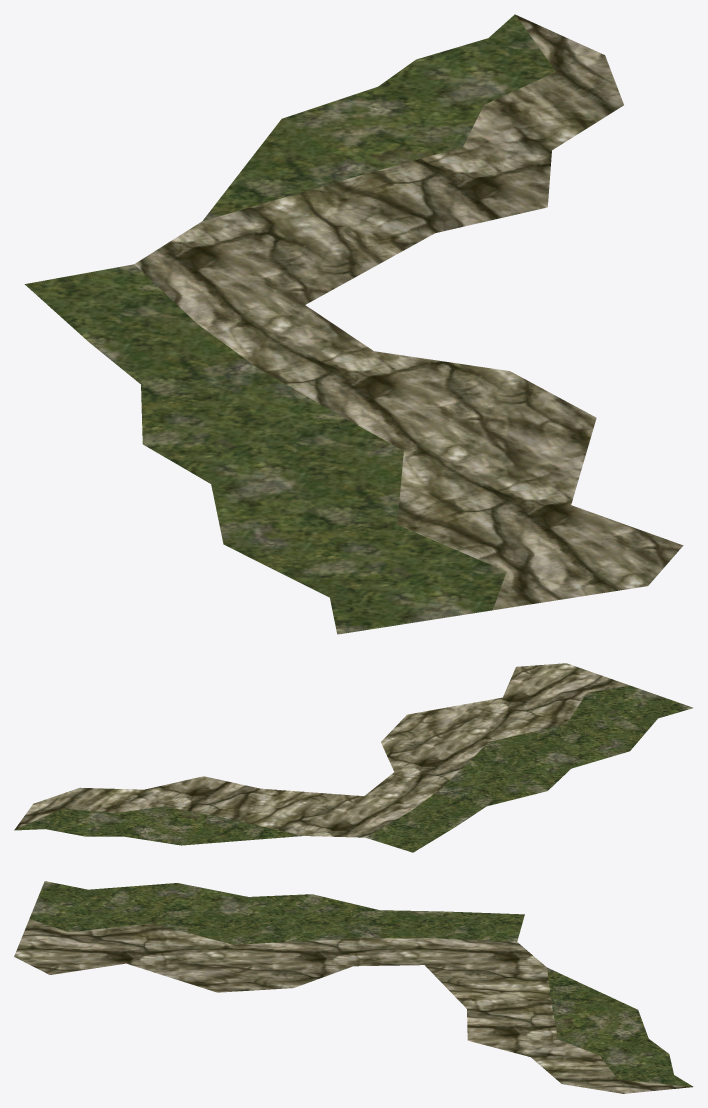
The model's file is CB_NEWPLAYSURFACE_CB_PLAYSURFACE69.fbx.
The picture shows the model from 3 angles, top to bottom: view 1: azimuth 30°, elevation 25°; view 2: azimuth 150°, elevation 25°; view 3: azimuth 270°, elevation 25°; orthographic projection. The views are drawn at different scales.
Visible parts, largest first — view 1: CB_NEWPLAYSURFACE_CB_PLAYSURFACE69; view 2: CB_NEWPLAYSURFACE_CB_PLAYSURFACE69; view 3: CB_NEWPLAYSURFACE_CB_PLAYSURFACE69.
Part boxes in pixels (bbox=[...]): CB_NEWPLAYSURFACE_CB_PLAYSURFACE69: bbox=[24, 14, 683, 634]; CB_NEWPLAYSURFACE_CB_PLAYSURFACE69: bbox=[14, 663, 693, 852]; CB_NEWPLAYSURFACE_CB_PLAYSURFACE69: bbox=[14, 881, 693, 1093].
Bounding box in the file's own units: 215836 × 602 × 291285.
2 materials, 2 textured.
